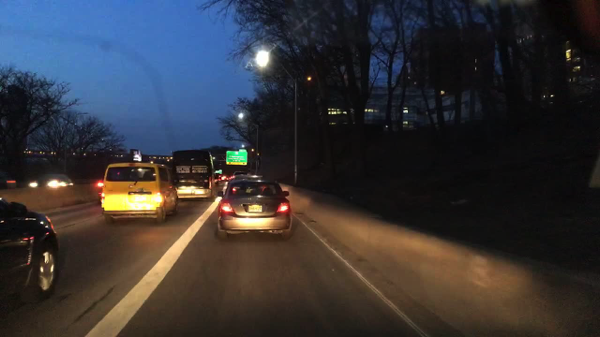car: (1, 197, 62, 314), (99, 162, 180, 223), (217, 175, 293, 238), (170, 148, 216, 200), (29, 173, 73, 190), (234, 170, 247, 179)
traffic sign: (224, 150, 248, 164)
